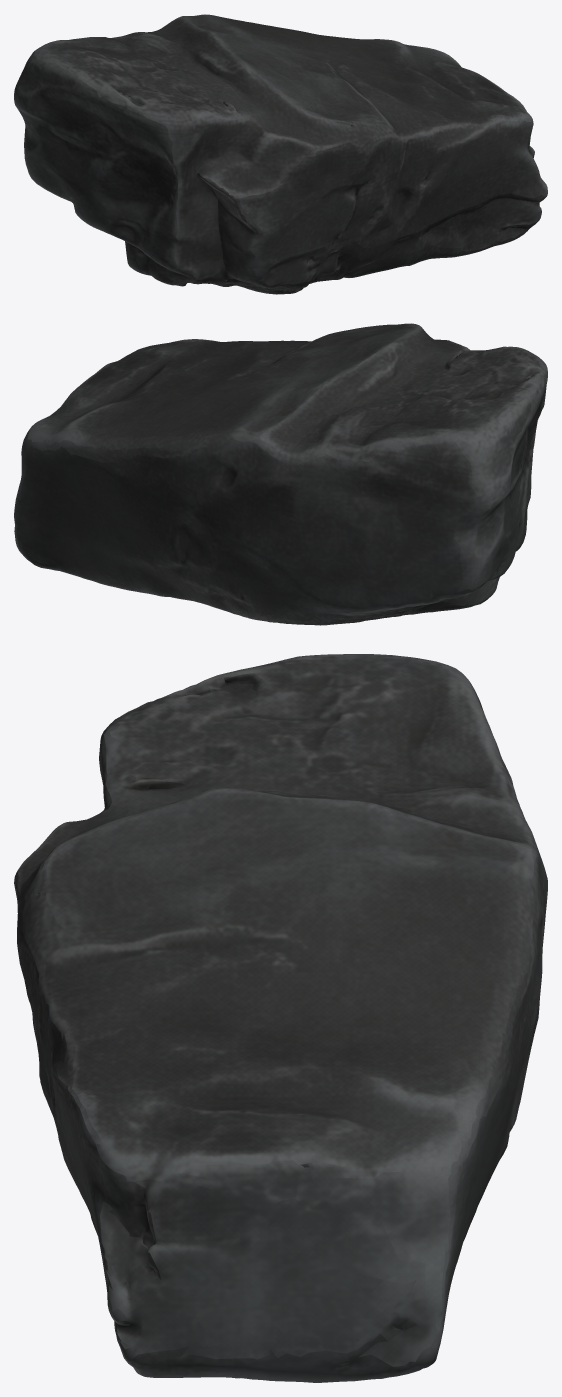
The model's file is tex_mesh.glb.
3 views of the same model, one above another, from view 1: azimuth 30°, elevation 25°; view 2: azimuth 150°, elevation 25°; view 3: azimuth 270°, elevation 25° (orthographic). The views are drawn at different scales.
Visible parts, largest first — view 1: world; view 2: world; view 3: world.
Boxes of the visible parts, left/top/right/bottom form: world: left=14, top=14, right=547, bottom=294; world: left=14, top=323, right=547, bottom=625; world: left=14, top=654, right=547, bottom=1382.
Size of the model in its own units: 2.5 by 1.25 by 1.53.
1 material, 1 textured.
